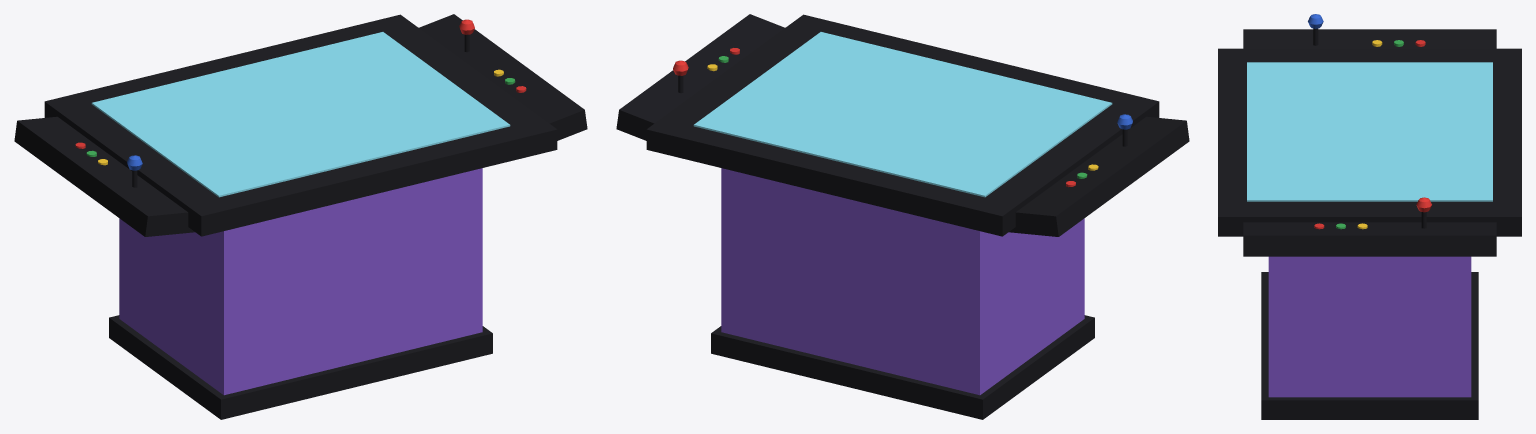
File: Arcade_Table.obj
3 views of the same model, side by side, from view 1: azimuth 30°, elevation 25°; view 2: azimuth 150°, elevation 25°; view 3: azimuth 270°, elevation 25° (orthographic). The views are drawn at different scales.
Parts seen in each view (by area): view 1: Arcade_Table; view 2: Arcade_Table; view 3: Arcade_Table.
Boxes of the visible parts, box(x1,y1,x2,y2) form: Arcade_Table: box(14, 14, 587, 419); Arcade_Table: box(616, 14, 1189, 419); Arcade_Table: box(1218, 14, 1521, 419).
Size of the model in its own units: 1.37 by 0.762 by 0.84.
